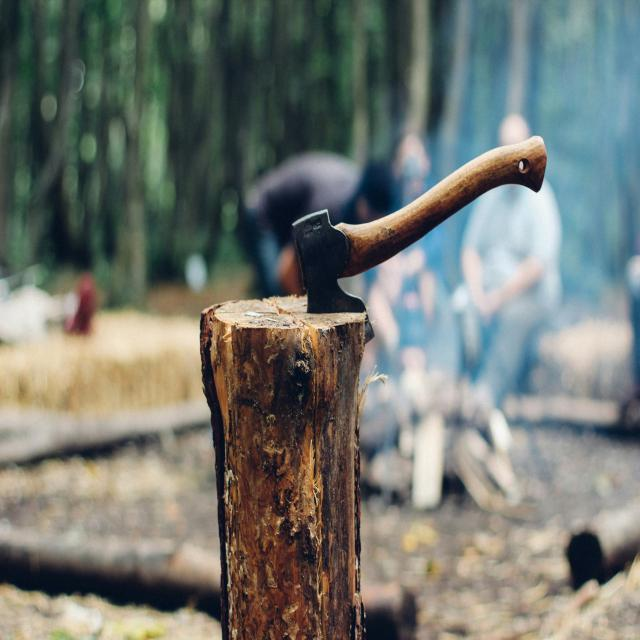Axe: (292, 136, 546, 314)
